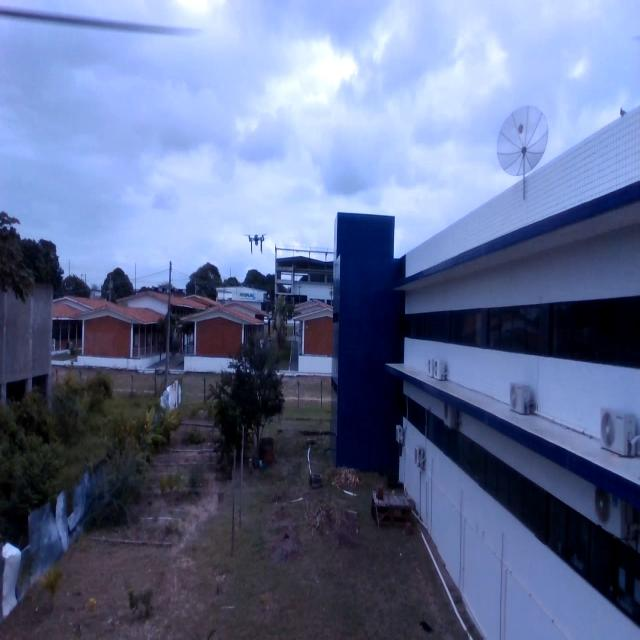-uav-: (242, 222, 272, 264)
